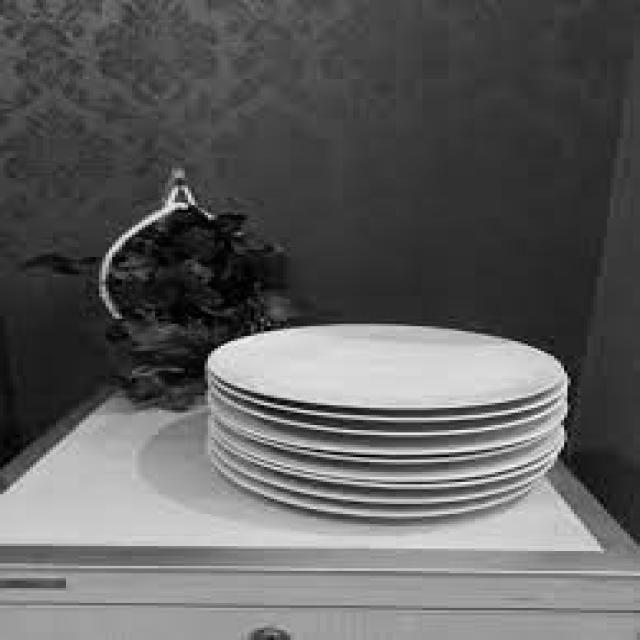dish: (178, 300, 590, 534)
